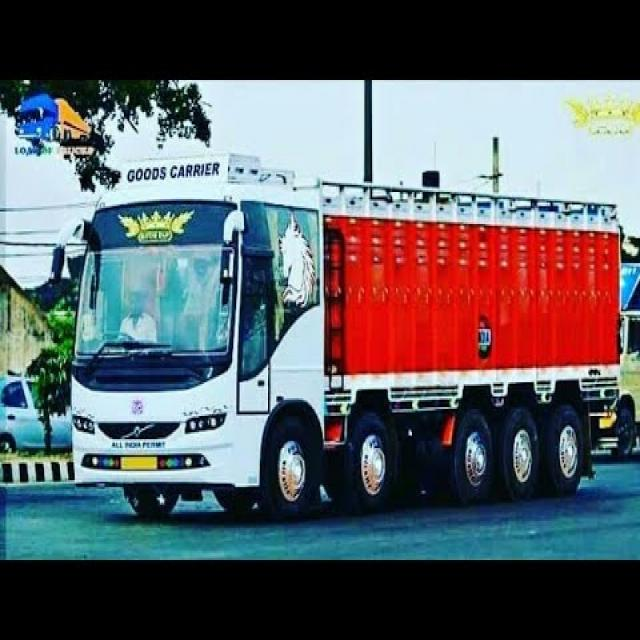Truck: (75, 159, 623, 520)
